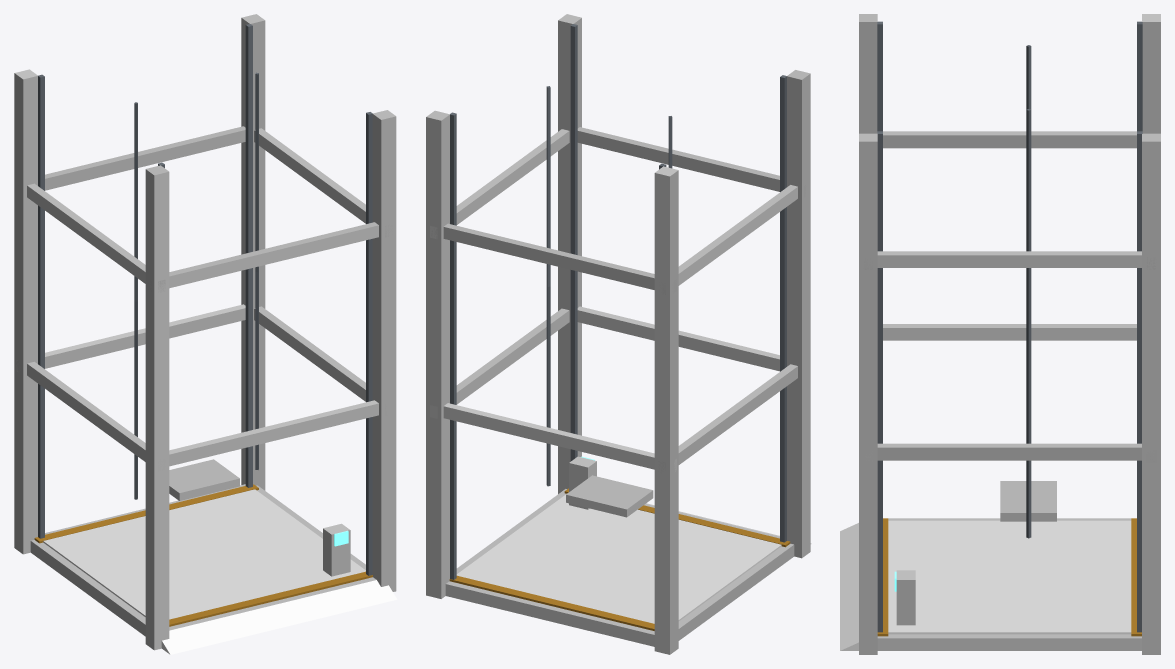
Rendered from Elevator_Platform.fbx.
3 views of the same model, side by side, from view 1: azimuth 30°, elevation 25°; view 2: azimuth 150°, elevation 25°; view 3: azimuth 270°, elevation 25° (orthographic). The views are drawn at different scales.
Visible parts, largest first — view 1: Elevator_Platform, Elevator_Platform_COL_Ramp; view 2: Elevator_Platform; view 3: Elevator_Platform, Elevator_Platform_COL_Ramp.
Boxes of the visible parts, box(x1,y1,x2,y2) form: Elevator_Platform: box(14, 14, 396, 650); Elevator_Platform_COL_Ramp: box(161, 580, 397, 654); Elevator_Platform: box(426, 14, 810, 654); Elevator_Platform: box(859, 14, 1160, 654); Elevator_Platform_COL_Ramp: box(840, 523, 858, 650).
Size of the model in its own units: 6.4 by 12 by 6.8.
